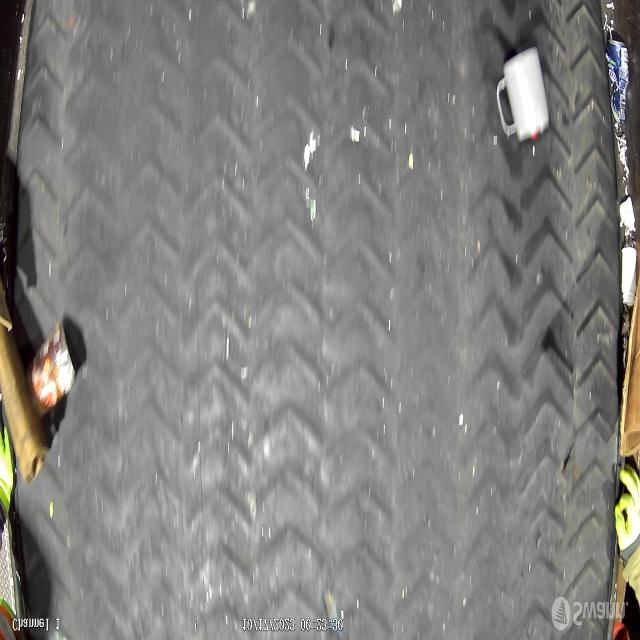can: (29, 318, 80, 416), (606, 39, 630, 126)
